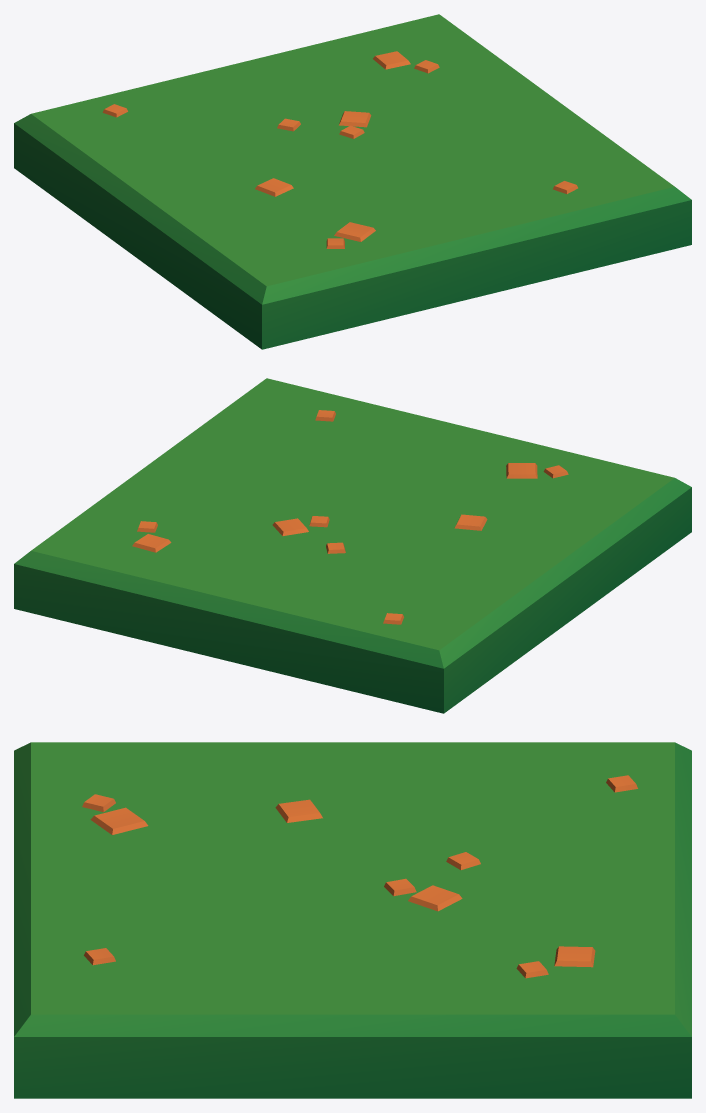
The model's file is floor_green.glb.
3 renders of one model, top to bottom at view 1: azimuth 30°, elevation 25°; view 2: azimuth 150°, elevation 25°; view 3: azimuth 270°, elevation 25°, orthographic. The views are drawn at different scales.
Visible parts, largest first — view 1: Floor_Green; view 2: Floor_Green; view 3: Floor_Green.
Boxes of the visible parts, bbox=[...] form: Floor_Green: bbox=[14, 14, 691, 349]; Floor_Green: bbox=[14, 378, 691, 713]; Floor_Green: bbox=[14, 742, 691, 1098].
Bounding box in the file's own units: 4 × 0.53 × 4.
1 material, 1 textured.
